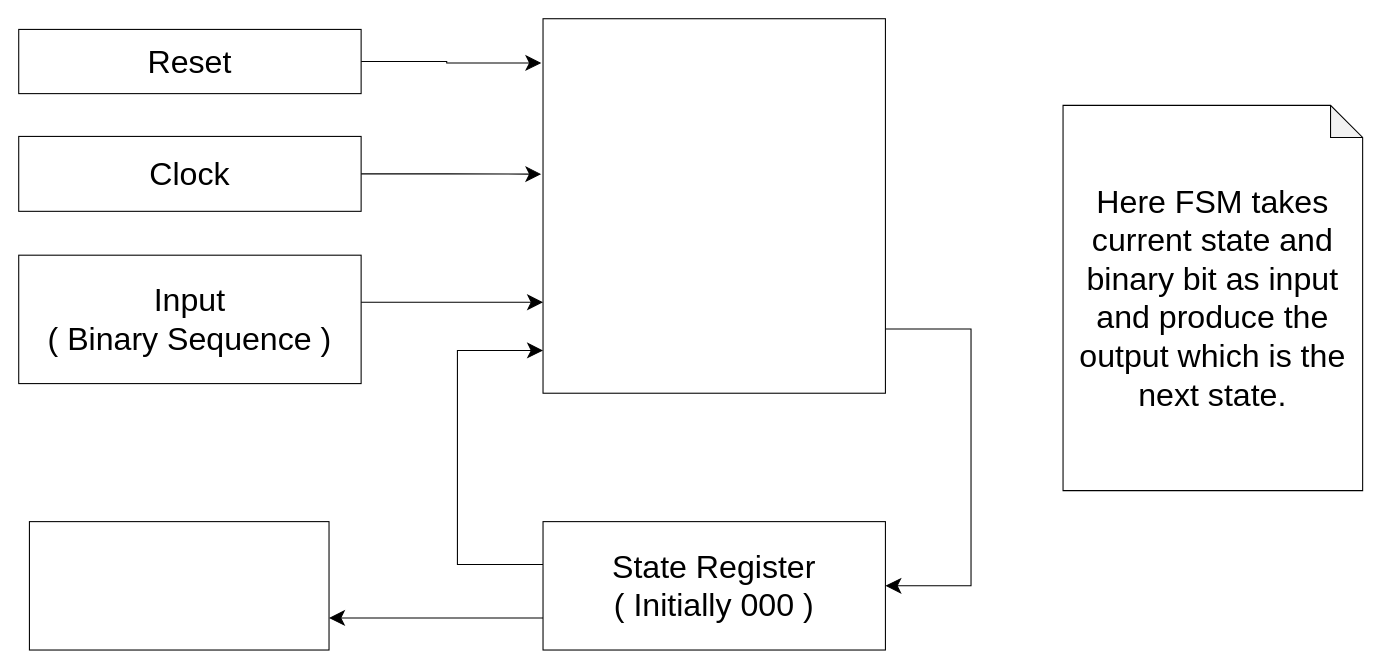
This 1381x669 diagram has some shape labels left out. The box of each missing label's shape, as (x1, y1, x2, y2) in pixels:
FSM: (542, 18, 885, 393)
Output ( Current Room ): (28, 521, 329, 650)
